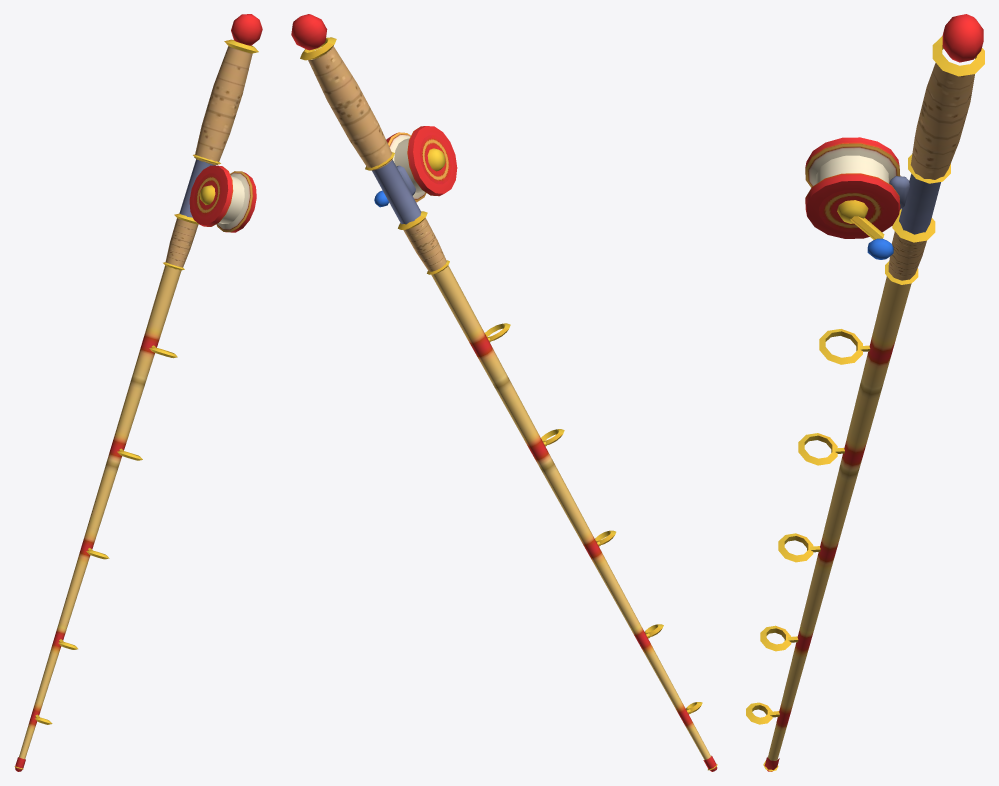
Rendered from fishing_rod.glb.
3 renders of one model, left to right at view 1: azimuth 30°, elevation 25°; view 2: azimuth 150°, elevation 25°; view 3: azimuth 270°, elevation 25°, orthographic. The views are drawn at different scales.
Parts seen in each view (by area): view 1: fishing_rod; view 2: fishing_rod; view 3: fishing_rod.
Part boxes in pixels (box(x1,y1,x2,y2)): fishing_rod: box(14, 14, 262, 771); fishing_rod: box(291, 14, 717, 771); fishing_rod: box(746, 14, 984, 771).
Size of the model in its own units: 0.8554 by 1.69 by 0.3765.
3 materials, 3 textured.
